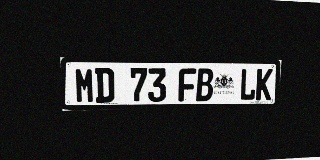3: (148, 68, 166, 102)
7: (129, 68, 147, 102)
B: (196, 68, 214, 101)
D: (95, 68, 114, 103)
F: (178, 68, 196, 102)
K: (255, 69, 273, 100)
L: (239, 69, 257, 101)
M: (74, 68, 95, 103)
